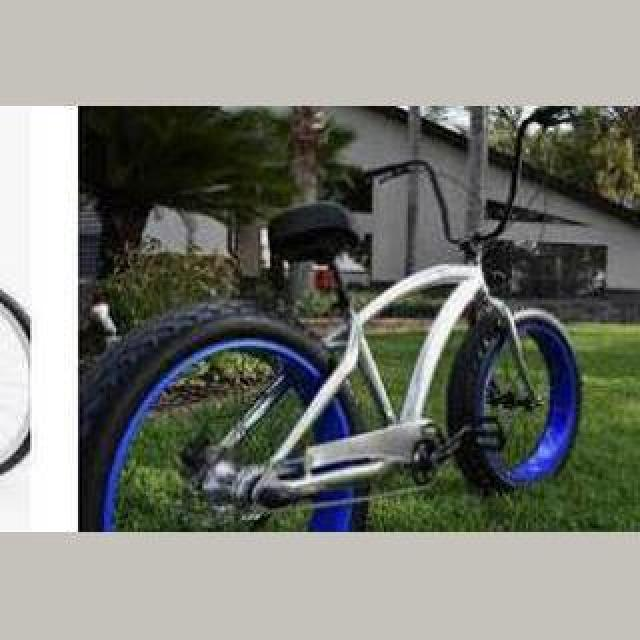Person: (78, 160, 586, 532)
